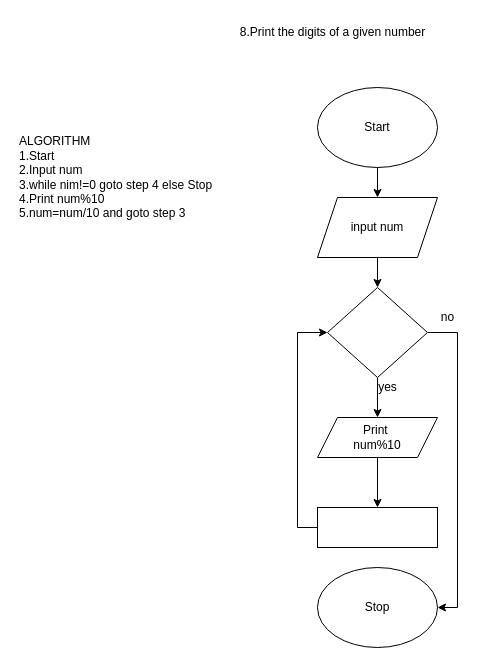
Some shapes in this 484 by 665 pixel diagram are drawn without their labels. The centre of each missing label's shape, as x and y in pixels:
"num=num/10" belongs at point (377, 527).
"while num!=0" belongs at point (377, 332).
